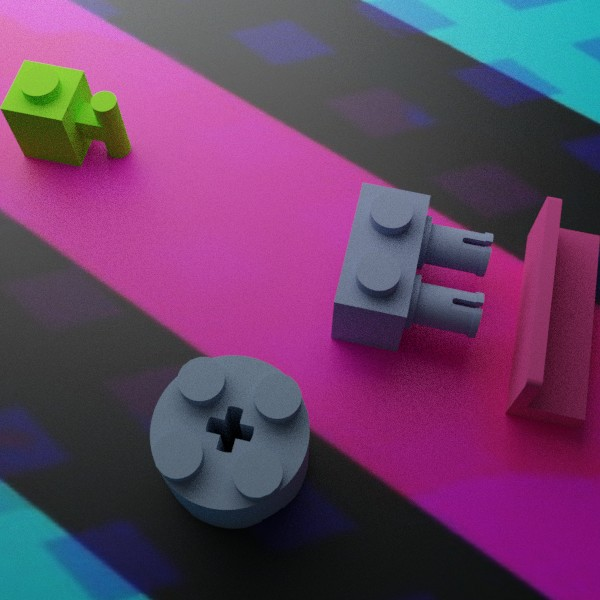lego: (149, 355, 309, 528), (330, 182, 493, 351), (505, 196, 599, 428), (0, 59, 131, 166)
